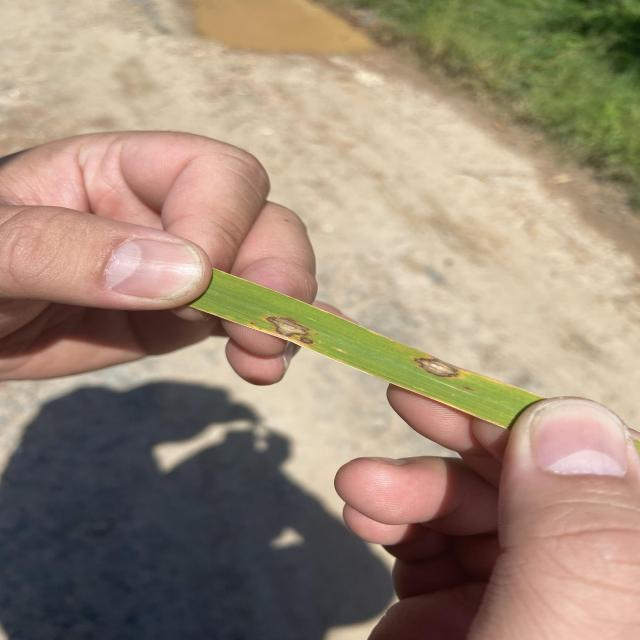Dao on: (413, 358, 460, 378), (266, 316, 310, 337)
